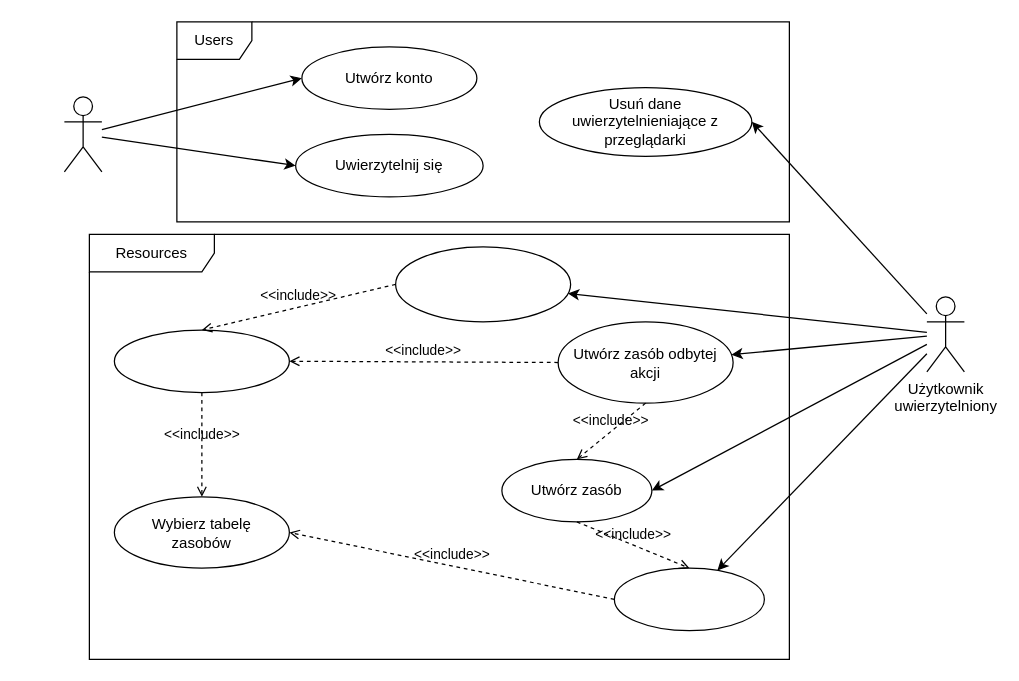
The diagram is 1019 pixels wide and 681 high, and some of its shapes have lost their labels. Here are the shapes that lost their labels. From the top down, the centre of each, then its label:
(82,134): Użytkownik nieuwierzytelniony
(482,284): Usuń zaznaczone zasoby
(201,360): Zaznacz zasób
(688,599): Edytuj zasób
